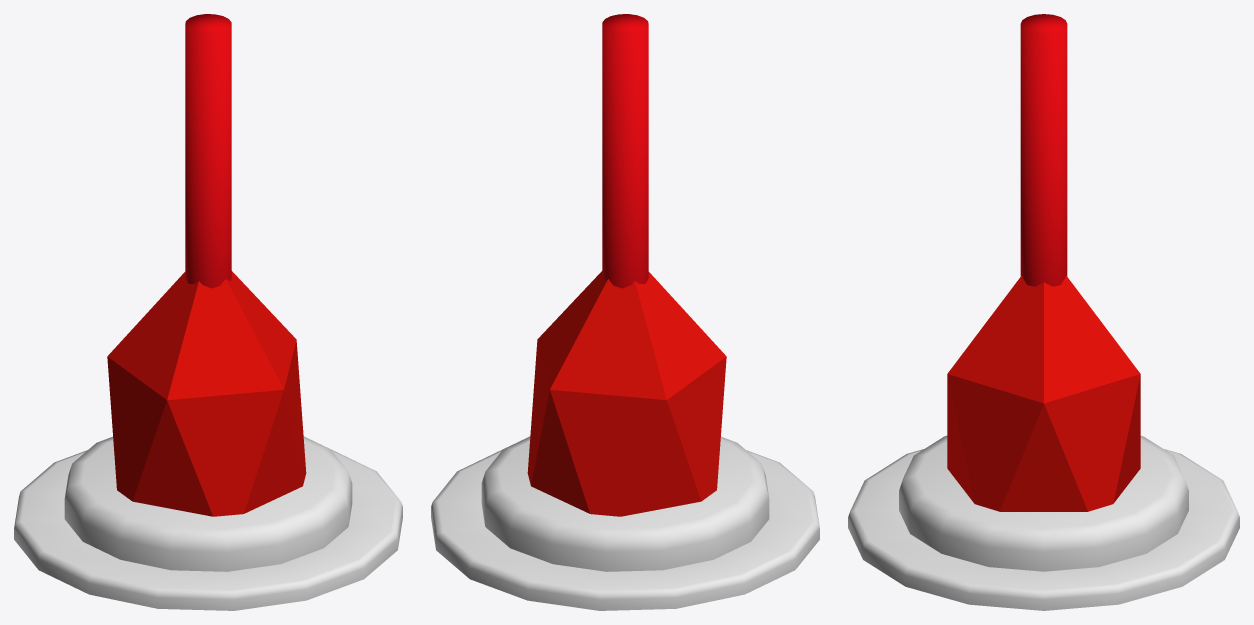
The model's file is laser.fbx.
The picture shows the model from 3 angles, left to right: view 1: azimuth 30°, elevation 25°; view 2: azimuth 150°, elevation 25°; view 3: azimuth 270°, elevation 25°; orthographic projection.
Visible parts, largest first — view 1: Cylinder.003, Cylinder.004; view 2: Cylinder.003, Cylinder.004; view 3: Cylinder.003, Cylinder.004.
Part boxes in pixels (x1,y1,x2,y2): Cylinder.003: (14,271,402,610); Cylinder.004: (185,14,231,288); Cylinder.003: (431,271,819,610); Cylinder.004: (602,14,648,288); Cylinder.003: (848,275,1239,610); Cylinder.004: (1020,14,1067,286).
Bounding box in the file's own units: 100 × 142 × 100.
